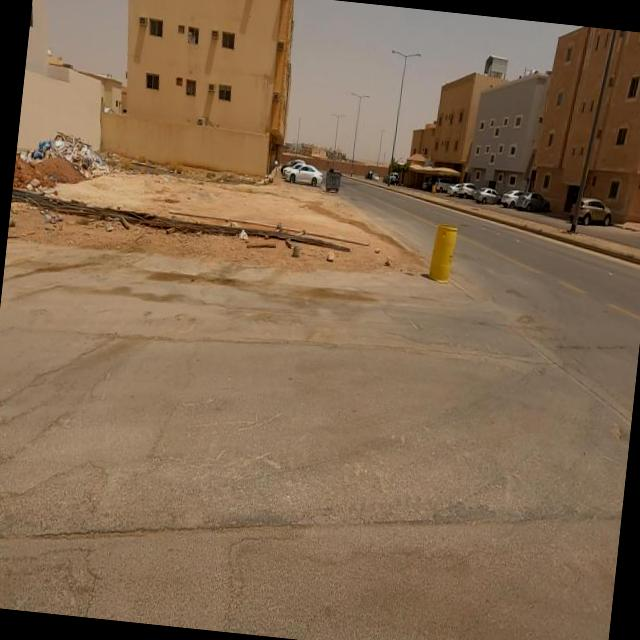debris: (43, 111, 138, 209), (11, 100, 96, 206), (207, 196, 275, 278), (22, 176, 82, 246)
